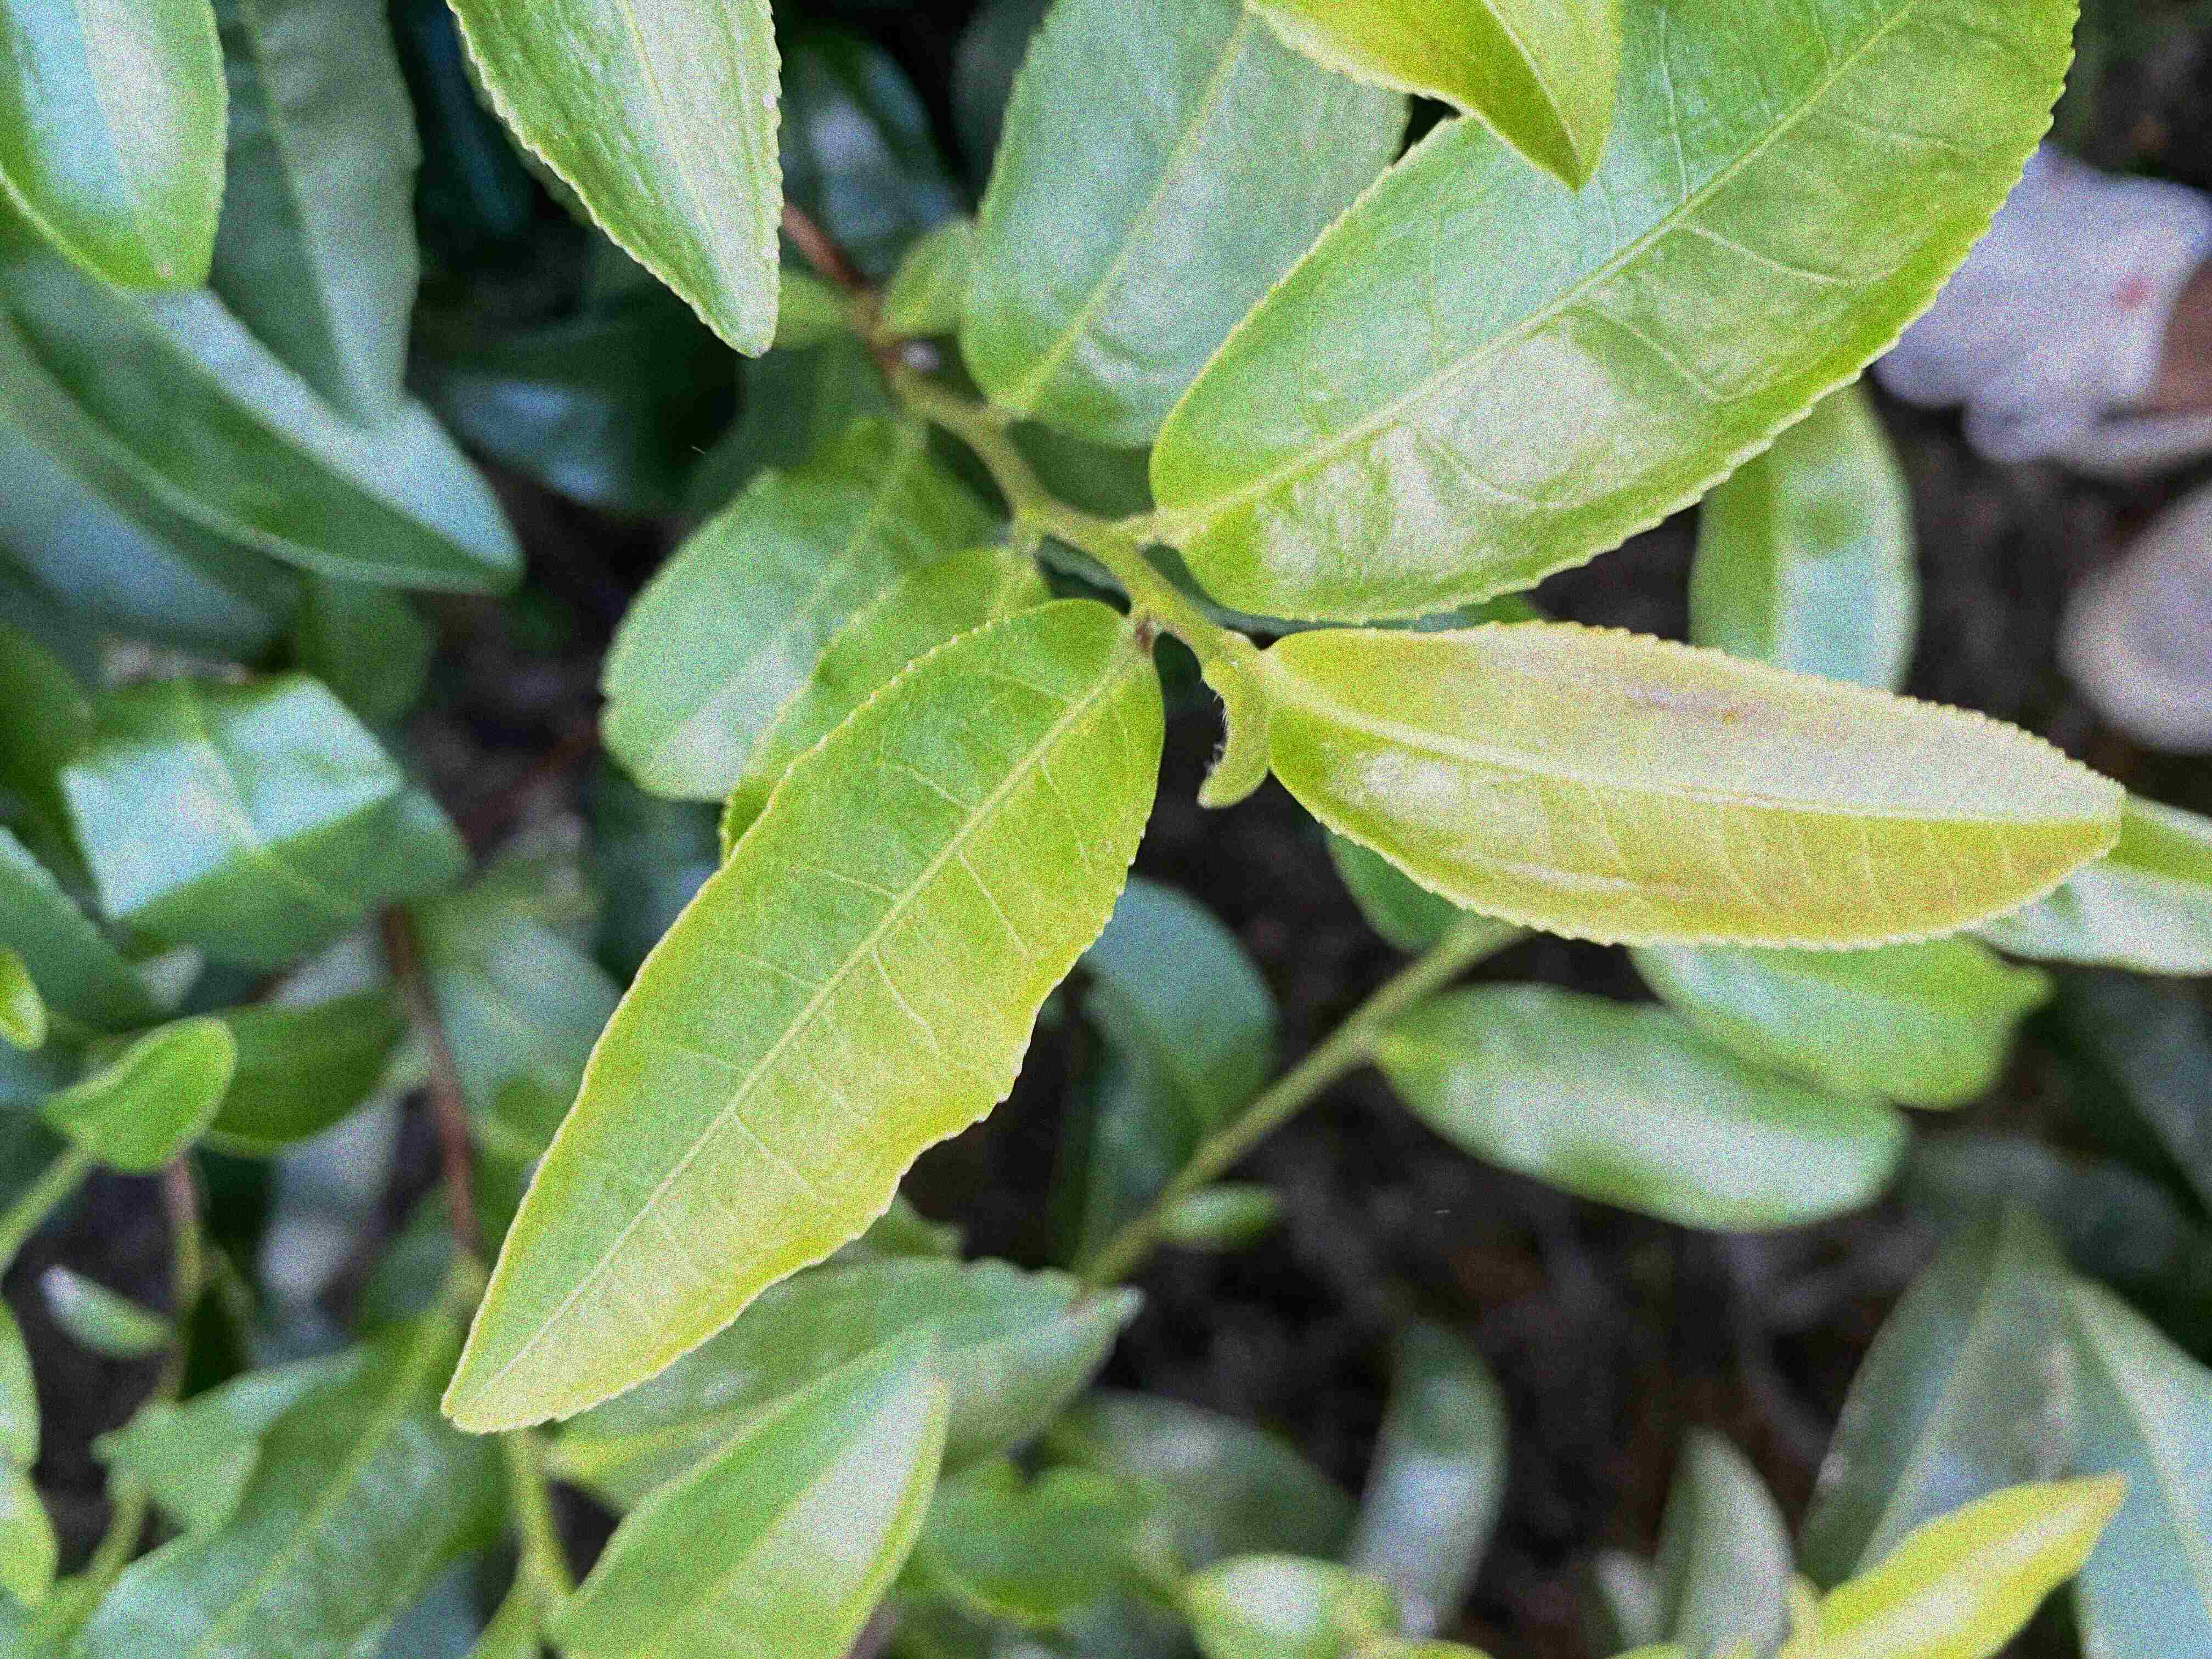healthy: (434, 596, 1167, 1436), (1150, 2, 2081, 624)
tanju_low: (1261, 613, 2128, 953)
